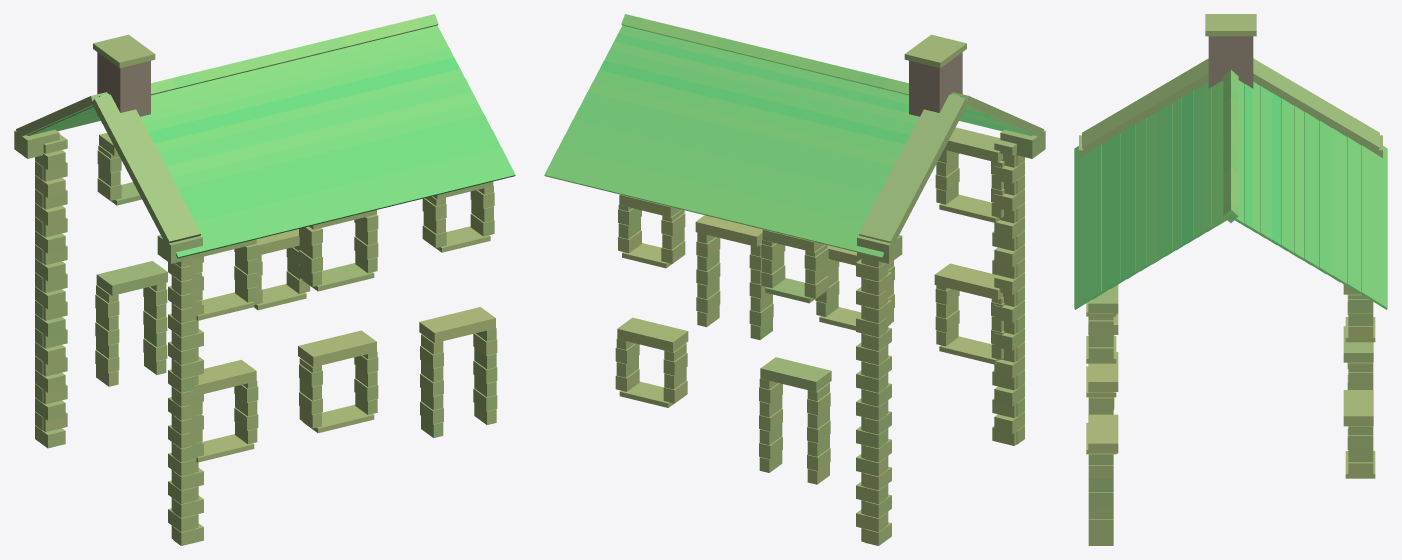
Rendered from SM_Bld_188_Stone.glb.
The picture shows the model from 3 angles, left to right: view 1: azimuth 30°, elevation 25°; view 2: azimuth 150°, elevation 25°; view 3: azimuth 270°, elevation 25°; orthographic projection. The views are drawn at different scales.
Visible parts, largest first — view 1: SM_Bld_188_Stone; view 2: SM_Bld_188_Stone; view 3: SM_Bld_188_Stone.
Boxes of the visible parts, x1,y1,x2,y2 form: SM_Bld_188_Stone: (14,14,515,545); SM_Bld_188_Stone: (544,14,1045,545); SM_Bld_188_Stone: (1074,14,1387,545).
Bounding box in the file's own units: 7.72 × 9.48 × 6.31.
